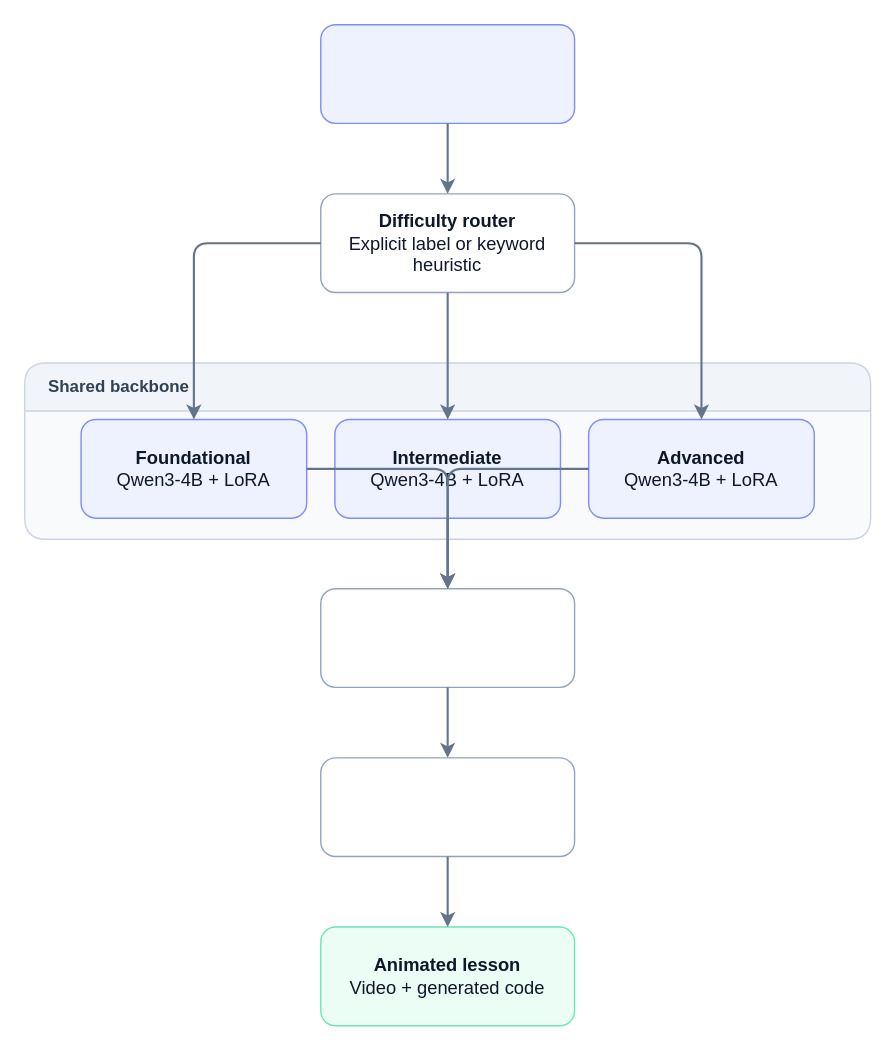
The diagram is 895 pixels wide and 1050 high, and some of its shapes have lost their labels. The centre of each missing label's shape, as x and y in pixels:
"Base-model cleanup Convert the draft into a renderable scene" goes at pixel 447 637.
"Lesson request Prompt + optional difficulty" goes at pixel 447 73.
"Validate + render Manim in Docker · optional narration" goes at pixel 447 806.
